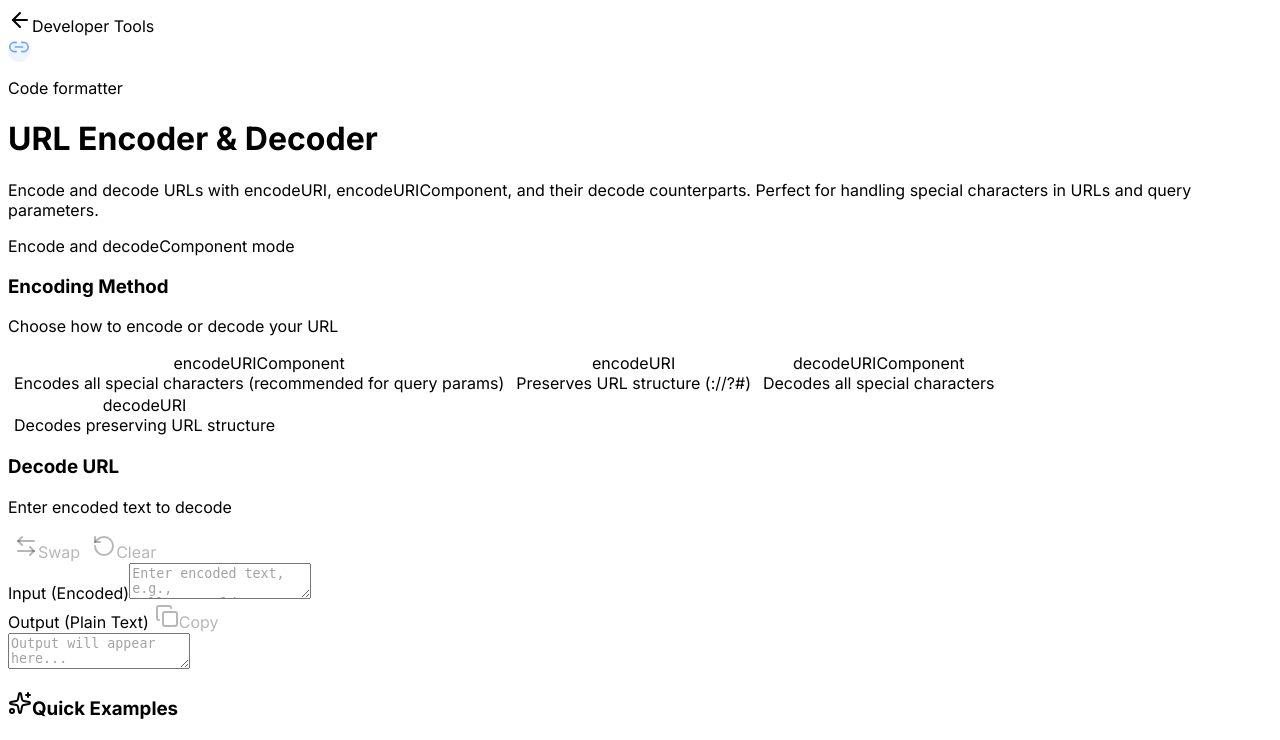
Scenario: URLEncoderPage › Error Handling › shows error for invalid encoded string
# %GG is an invalid percent-encoding
Type "%GG" into the text box labelled "Input (Encoded)" at (220,581), box [129,563,311,599]
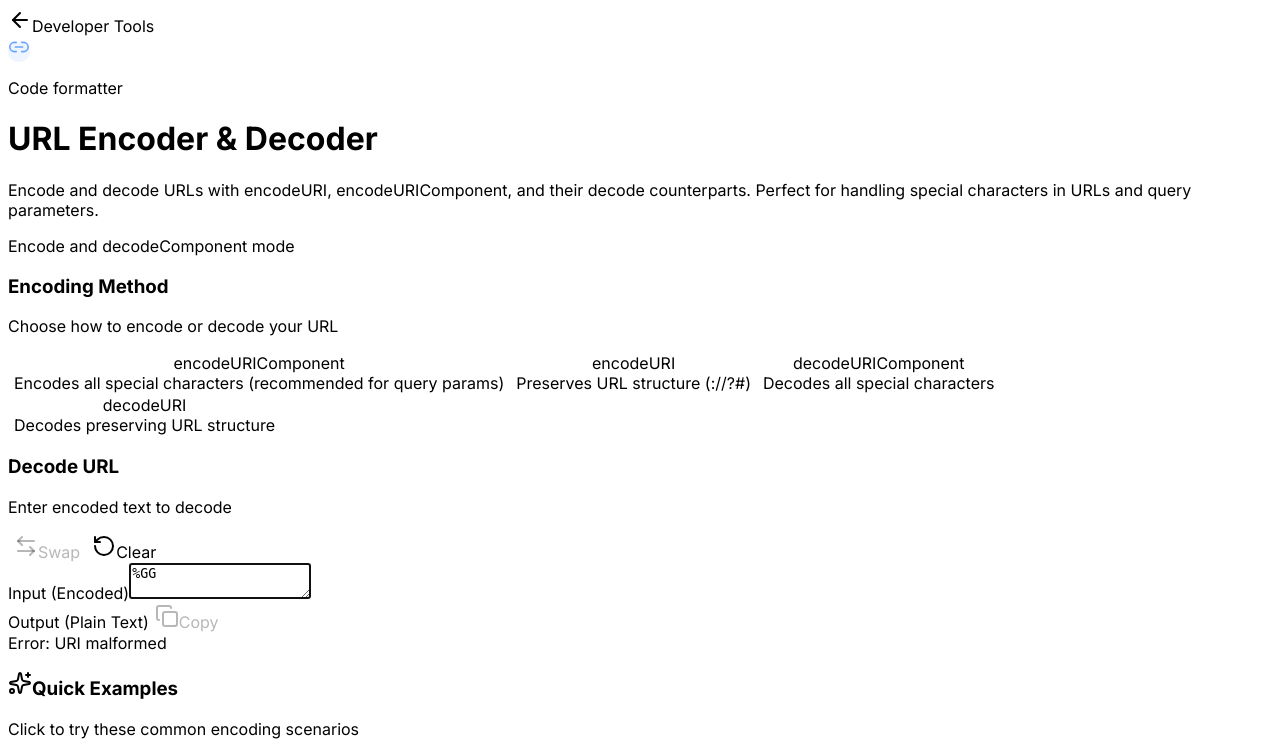
expect the text "Error: URI malformed" is shown: met, box [8,633,167,653]
